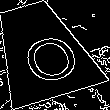O_N: (6, 19, 77, 83)
